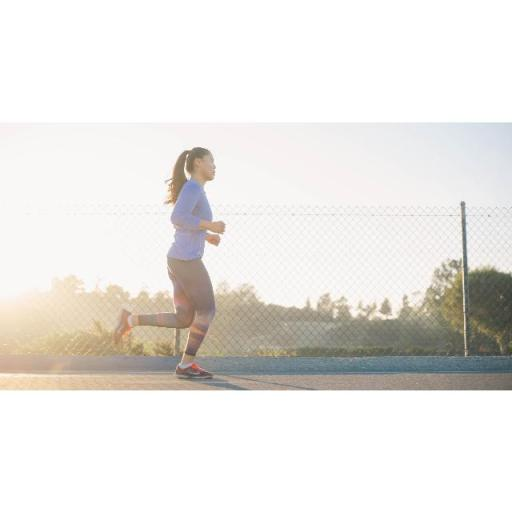Running: (102, 143, 234, 384)
